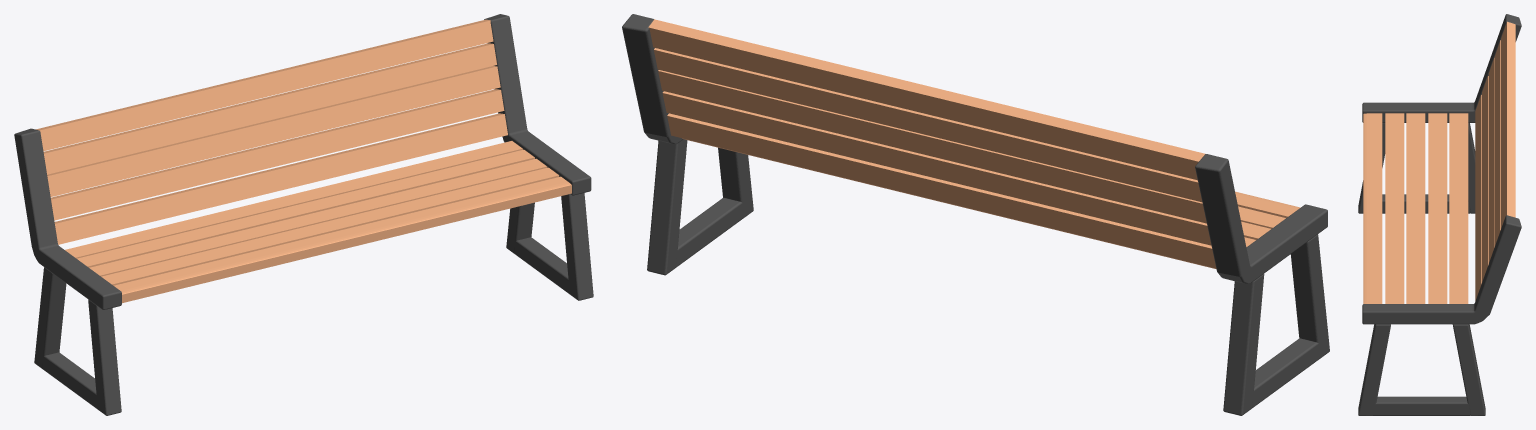
File: Bench1.fbx
3 renders of one model, left to right at view 1: azimuth 30°, elevation 25°; view 2: azimuth 150°, elevation 25°; view 3: azimuth 270°, elevation 25°, orthographic. The views are drawn at different scales.
Visible parts, largest first — view 1: Cube.031, Cube.039; view 2: Cube.031, Cube.039; view 3: Cube.031, Cube.039.
Part boxes in pixels (x1,y1,x2,y2): Cube.031: (35, 19, 571, 303); Cube.039: (14, 14, 593, 415); Cube.031: (648, 19, 1300, 269); Cube.039: (622, 14, 1329, 415); Cube.031: (1363, 21, 1515, 303); Cube.039: (1358, 14, 1521, 415).
Size of the model in its own units: 657 by 283 by 217.
